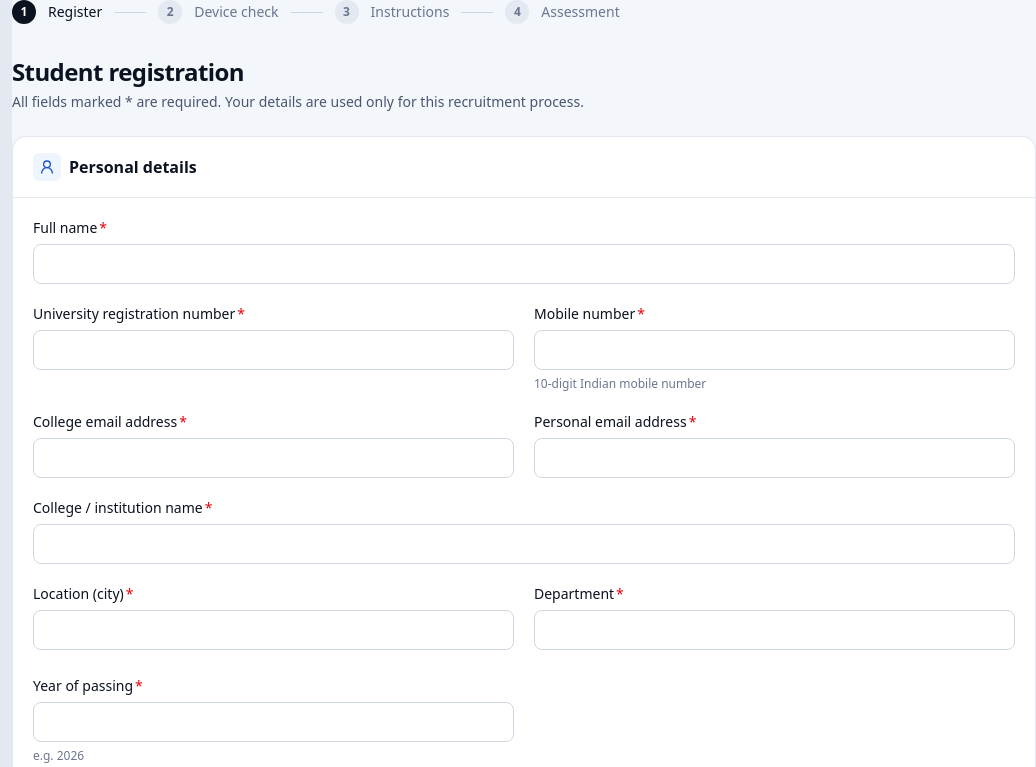
Test: RegisterPage › shows validation messages and does not submit an invalid form
Expected: the heading "Student registration" is shown, [12, 55, 244, 88]
Type "not-an-email" into the field labelled "College email address*" at (274, 458), box [33, 438, 514, 478]
(page scrolled)
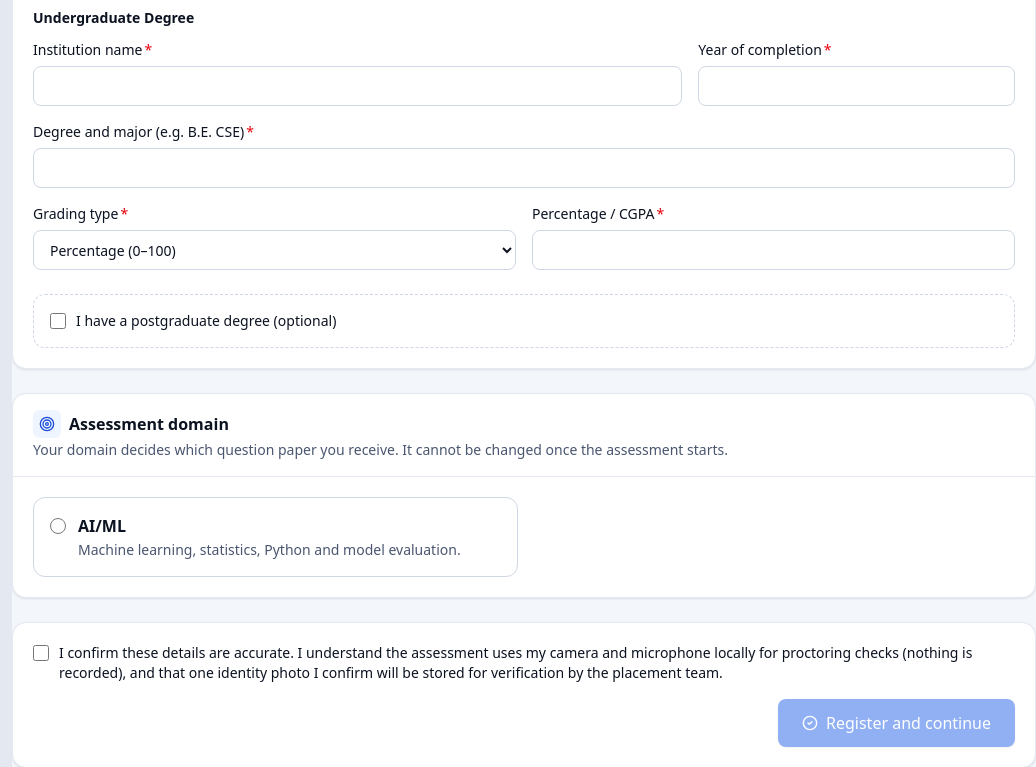
Click the checkbox labelled "I confirm these details are accurate" at (41, 653), box [33, 645, 49, 661]
(page scrolled)
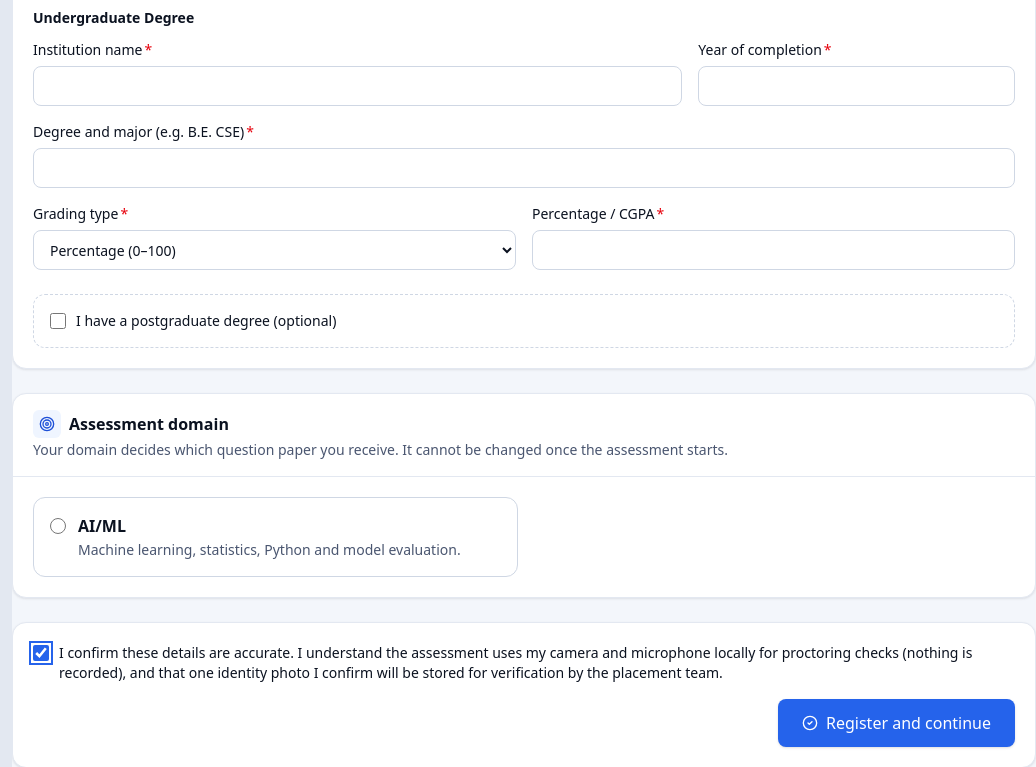
Click the button "Register and continue" at (896, 723), box [778, 699, 1015, 747]
(page scrolled)
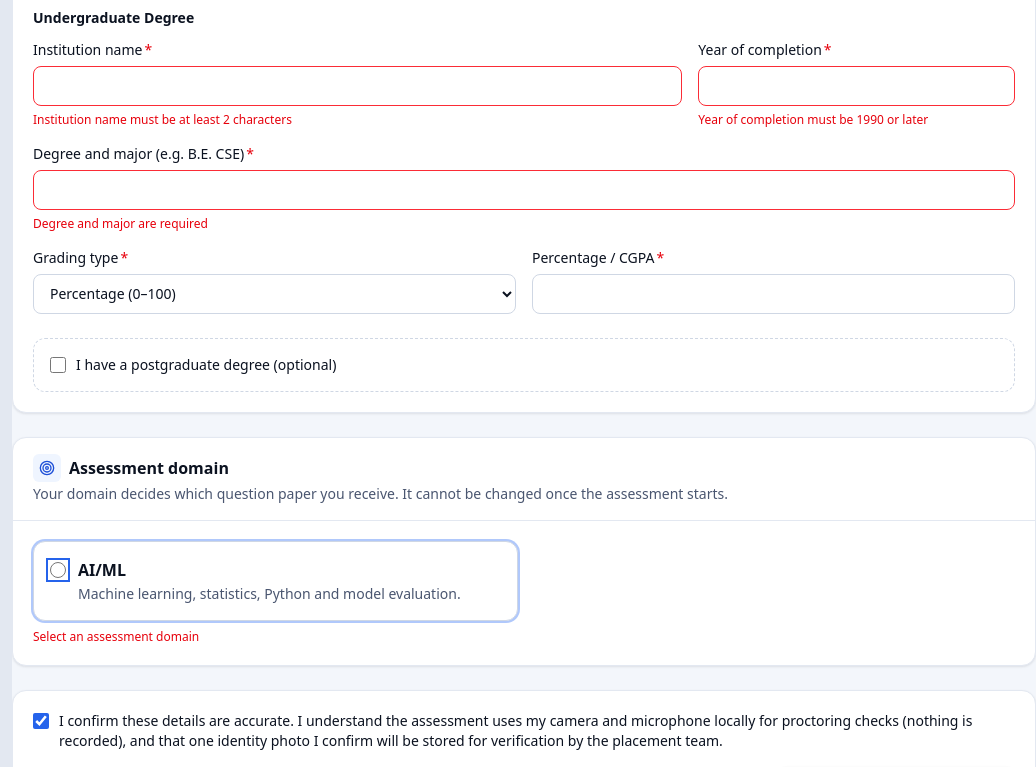
Expected: the text "Select an assessment domain" is shown, [33, 628, 199, 645]
